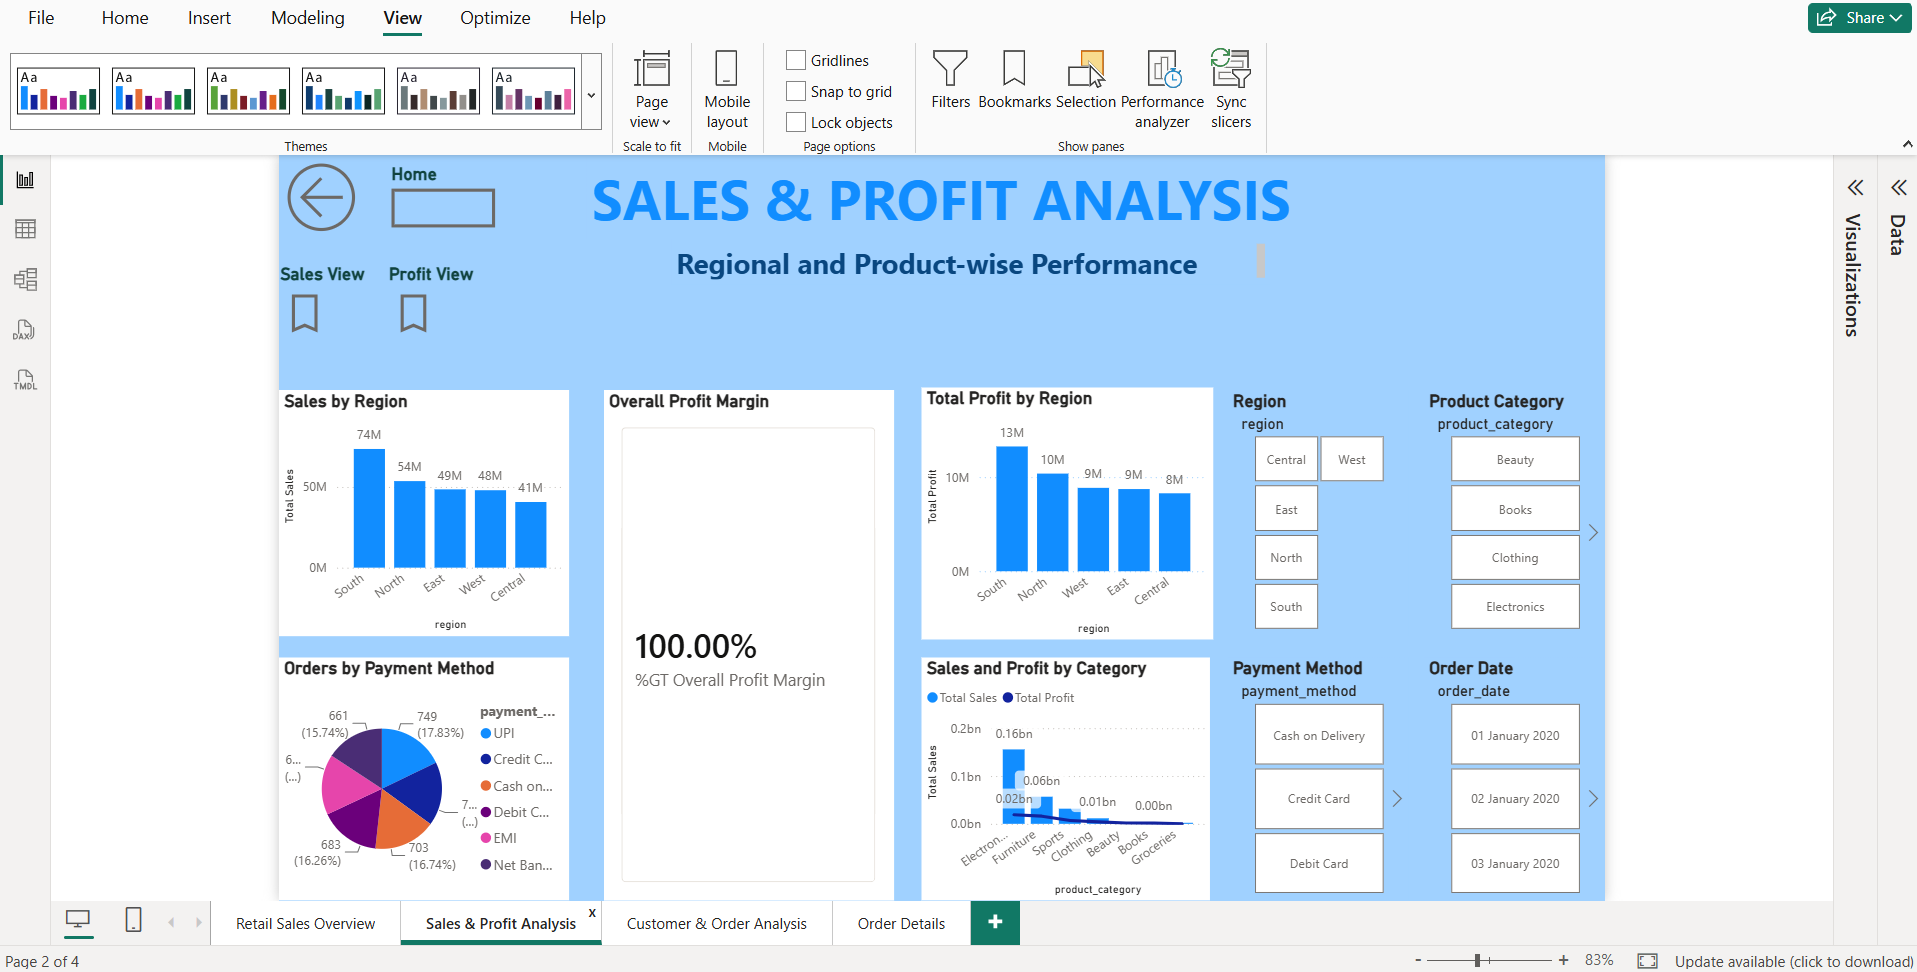

What the dashboard file says about the page in this screenshot:
{"tool":"powerbi","page":{"name":"Sales & Profit Analysis","canvas":[1280,720],"ordinal":1},"visuals":[{"type":"textbox","box":[296.4,0,747.9,81],"z":0},{"type":"textbox","box":[378.7,81,577.7,43.9],"z":1000},{"type":"clusteredColumnChart","title":"Total Profit by Region","fields":{"Category":["Cleaned Data.region"],"Y":["Cleaned Data.Total Profit"]},"box":[620,224.3,281.4,243.3],"z":2000},{"type":"clusteredColumnChart","title":"Sales by Region","fields":{"Category":["Cleaned Data.region"],"Y":["Cleaned Data.Total Sales"]},"box":[0,227.2,280,237.5],"z":3000},{"type":"lineClusteredColumnComboChart","title":"Sales and Profit by Category","fields":{"Category":["Cleaned Data.product_category"],"Y":["Cleaned Data.Total Sales"],"Y2":["Cleaned Data.Total Profit"]},"box":[620,485.2,278.5,234.5],"z":4000},{"type":"pieChart","title":"Orders by Payment Method","fields":{"Category":["Cleaned Data.payment_method"],"Y":["Cleaned Data.Total Orders"]},"box":[0,485.2,280,234.5],"z":5000},{"type":"cardVisual","title":"Overall Profit Margin","fields":{"Data":["Cleaned Data.Overall Profit Margin"]},"box":[313.7,227.2,280,492.5],"z":6000},{"type":"slicer","title":"Region","fields":{"Values":["Cleaned Data.region"]},"box":[916.1,227.2,174.4,237.5],"z":7000},{"type":"slicer","title":"Product Category","fields":{"Values":["Cleaned Data.product_category"]},"box":[1105.2,227.2,174.4,237.5],"z":8000},{"type":"slicer","title":"Payment Method","fields":{"Values":["Cleaned Data.payment_method"]},"box":[916.1,485.2,174.4,234.5],"z":9000},{"type":"slicer","title":"Order Date","fields":{"Values":["Cleaned Data.order_date"]},"box":[1105.2,485.2,174.4,234.5],"z":10000},{"type":"actionButton","title":"Sales View","box":[1.7,105,98.3,71.7],"z":11000},{"type":"actionButton","title":"Profit View","box":[106.7,105,101.7,71.7],"z":12000},{"type":"actionButton","title":"Home","box":[108.3,8.3,100,61.7],"z":13000},{"type":"actionButton","box":[0,0,100,81.7],"z":14000}]}

Visuals, with their boxes on the page's 1280x720 design canvas (x1, y1, x2, y2). These are canvas units, not pixel positions in the 1917x972 screenshot, which may show the page scaled, cropped or inside an application window:
textbox: {"left": 296, "top": 0, "right": 1044, "bottom": 81}
textbox: {"left": 379, "top": 81, "right": 956, "bottom": 125}
"Total Profit by Region" clusteredColumnChart: {"left": 620, "top": 224, "right": 901, "bottom": 468}
"Sales by Region" clusteredColumnChart: {"left": 0, "top": 227, "right": 280, "bottom": 465}
"Sales and Profit by Category" lineClusteredColumnComboChart: {"left": 620, "top": 485, "right": 898, "bottom": 720}
"Orders by Payment Method" pieChart: {"left": 0, "top": 485, "right": 280, "bottom": 720}
"Overall Profit Margin" cardVisual: {"left": 314, "top": 227, "right": 594, "bottom": 720}
"Region" slicer: {"left": 916, "top": 227, "right": 1090, "bottom": 465}
"Product Category" slicer: {"left": 1105, "top": 227, "right": 1280, "bottom": 465}
"Payment Method" slicer: {"left": 916, "top": 485, "right": 1090, "bottom": 720}
"Order Date" slicer: {"left": 1105, "top": 485, "right": 1280, "bottom": 720}
"Sales View" actionButton: {"left": 2, "top": 105, "right": 100, "bottom": 177}
"Profit View" actionButton: {"left": 107, "top": 105, "right": 208, "bottom": 177}
"Home" actionButton: {"left": 108, "top": 8, "right": 208, "bottom": 70}
actionButton: {"left": 0, "top": 0, "right": 100, "bottom": 82}
